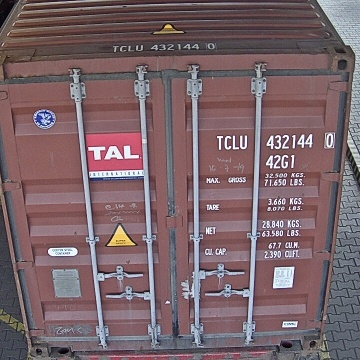serial_id: (217, 132, 334, 149)
